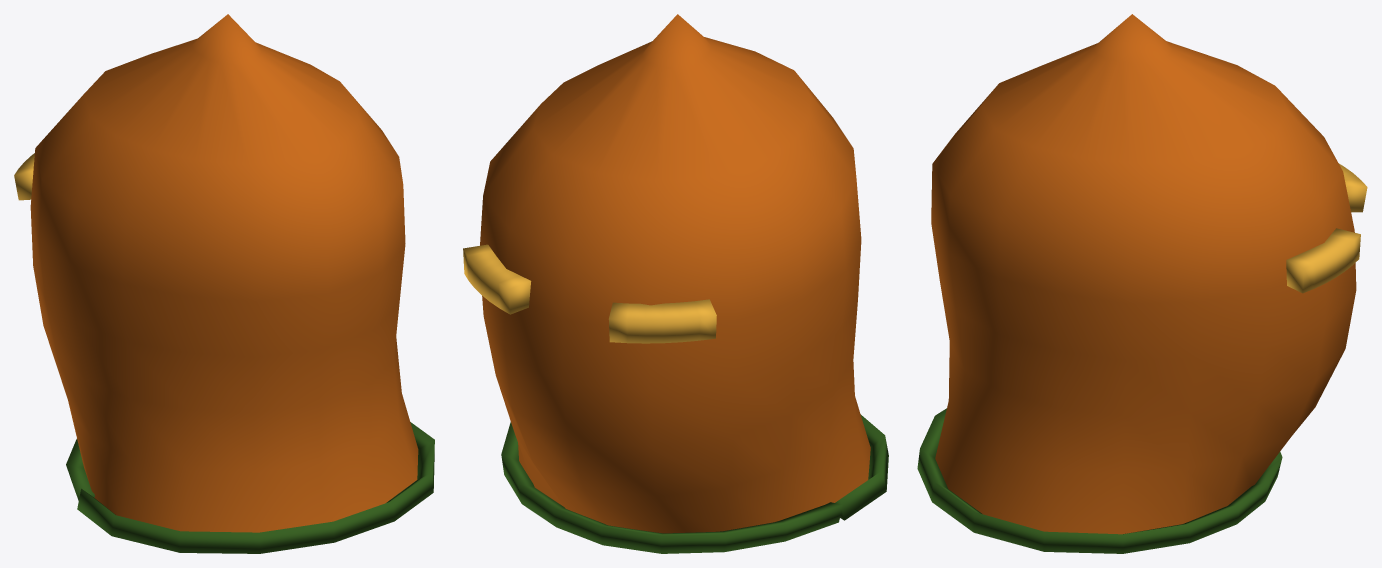
File: pumpkin_mask.glb
3 views of the same model, side by side, from view 1: azimuth 30°, elevation 25°; view 2: azimuth 150°, elevation 25°; view 3: azimuth 270°, elevation 25° (orthographic). The views are drawn at different scales.
Parts seen in each view (by area): view 1: pumpkin_mask_head; view 2: pumpkin_mask_head; view 3: pumpkin_mask_head.
Boxes of the visible parts, left/top/right/bottom form: pumpkin_mask_head: left=14, top=14, right=434, bottom=553; pumpkin_mask_head: left=463, top=14, right=888, bottom=553; pumpkin_mask_head: left=917, top=14, right=1367, bottom=553.
Bounding box in the file's own units: 0.2319 × 0.3134 × 0.2761.
